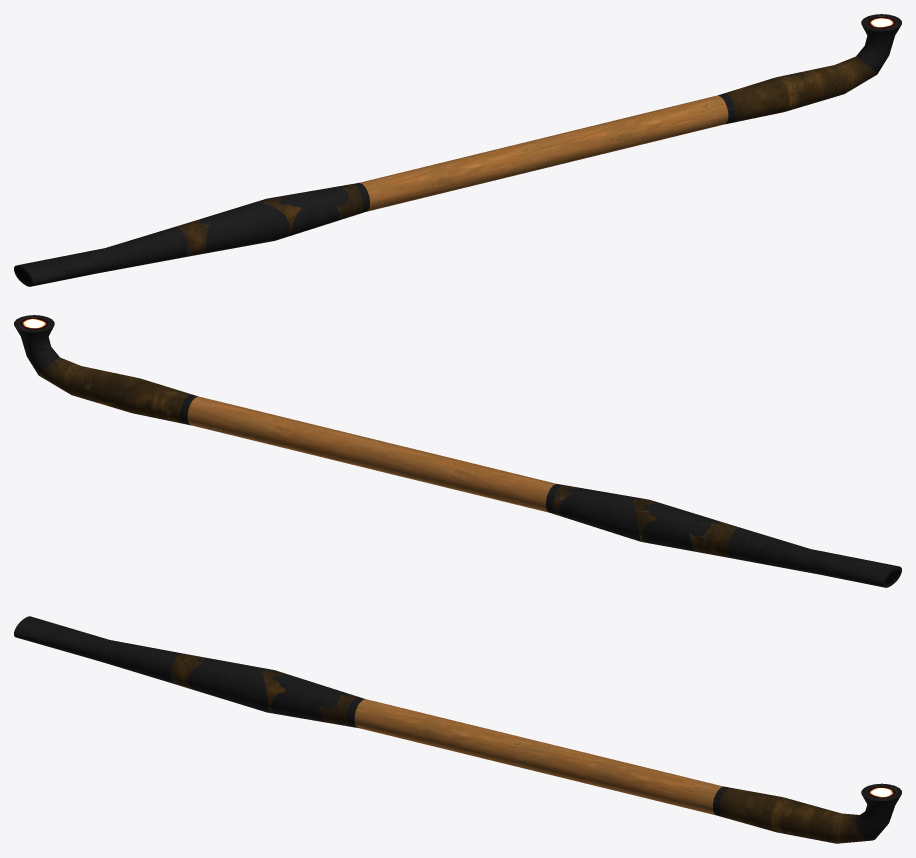
File: pipe.glb
The picture shows the model from 3 angles, top to bottom: view 1: azimuth 30°, elevation 25°; view 2: azimuth 150°, elevation 25°; view 3: azimuth 330°, elevation 25°; orthographic projection.
Parts seen in each view (by area): view 1: Object_2; view 2: Object_2; view 3: Object_2.
Part boxes in pixels (x1,y1,x2,y2): Object_2: (14,14,901,286); Object_2: (14,315,901,587); Object_2: (14,616,901,843).
Size of the model in its own units: 1.21 by 0.0887 by 0.0525.
1 material, 1 textured.
